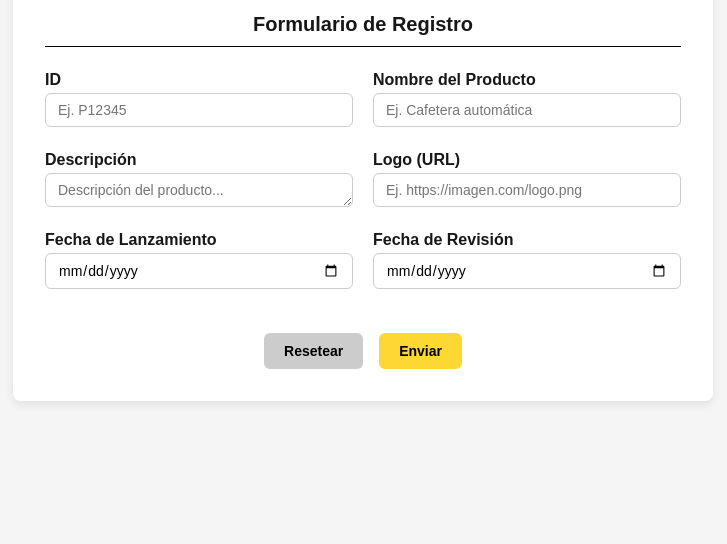
Test: ProductForm › debe mostrar errores si los campos están vacíos
Step 1. Click the button "Enviar" → x=421, y=351, box [379, 333, 462, 369]
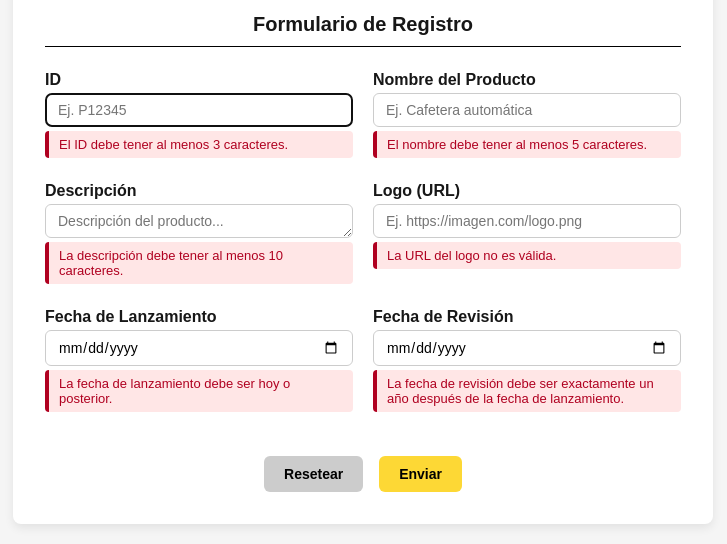
Result: the text "El ID debe tener al menos 3 caracteres." is shown at [45, 131, 353, 158]
Result: the text "El nombre debe tener al menos 5 caracteres." is shown at [373, 131, 681, 158]
Result: the text "La descripción debe tener al menos 10 caracteres." is shown at [45, 242, 353, 284]
